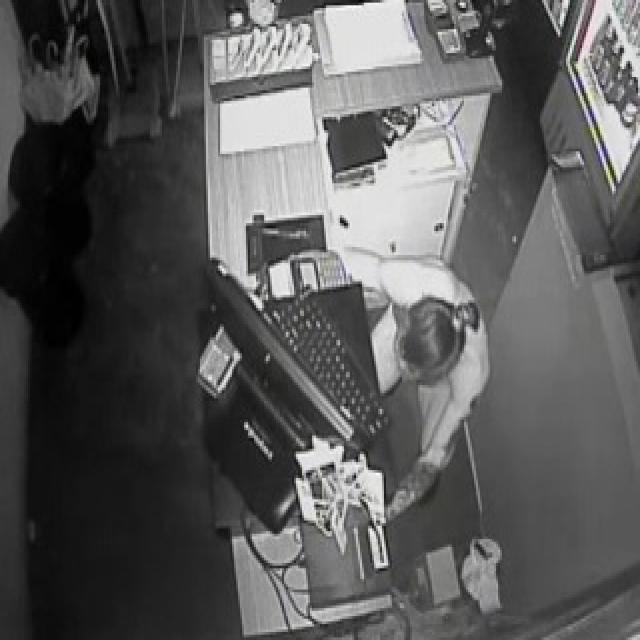thief: (380, 246, 490, 439)
